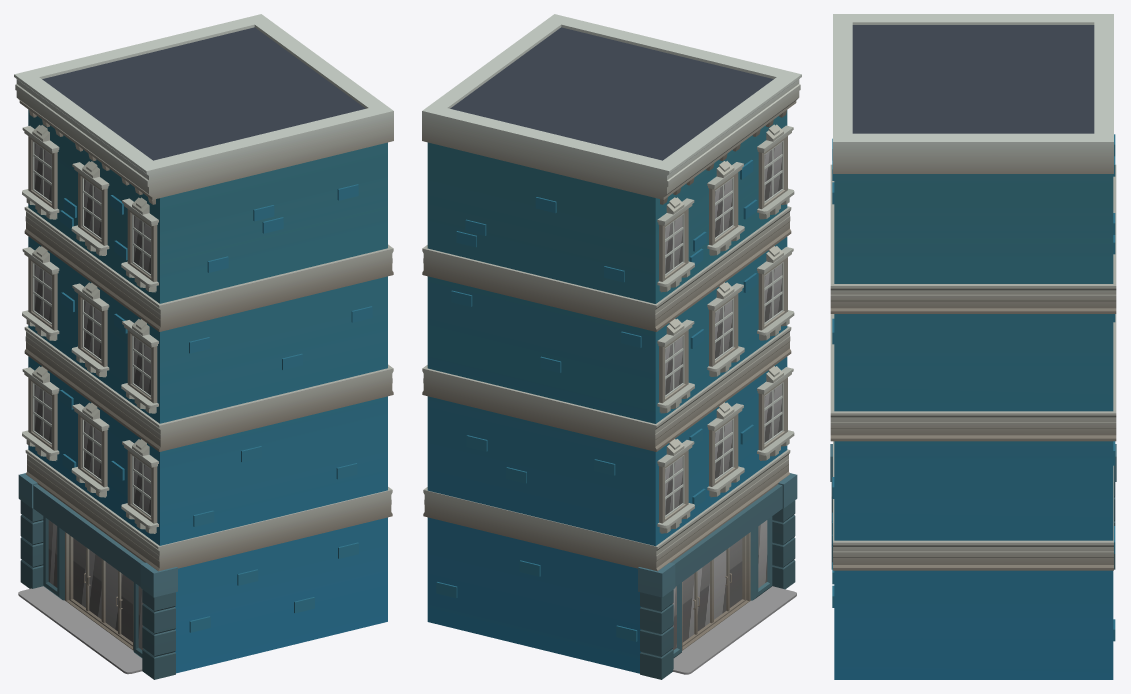
Rendered from Building_21_2_J.fbx.
3 views of the same model, side by side, from view 1: azimuth 30°, elevation 25°; view 2: azimuth 150°, elevation 25°; view 3: azimuth 270°, elevation 25° (orthographic). The views are drawn at different scales.
Parts seen in each view (by area): view 1: Building_21_2_J; view 2: Building_21_2_J; view 3: Building_21_2_J.
Boxes of the visible parts, left/top/right/bottom form: Building_21_2_J: left=14, top=14, right=393, bottom=679; Building_21_2_J: left=422, top=14, right=801, bottom=679; Building_21_2_J: left=830, top=14, right=1116, bottom=679.
Size of the model in its own units: 779 by 1485 by 713.
